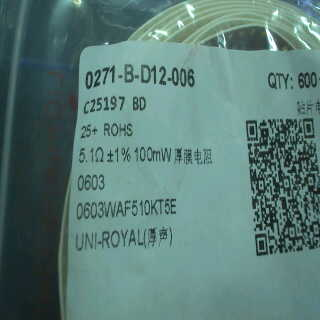5.1R: (77, 143, 105, 167)
